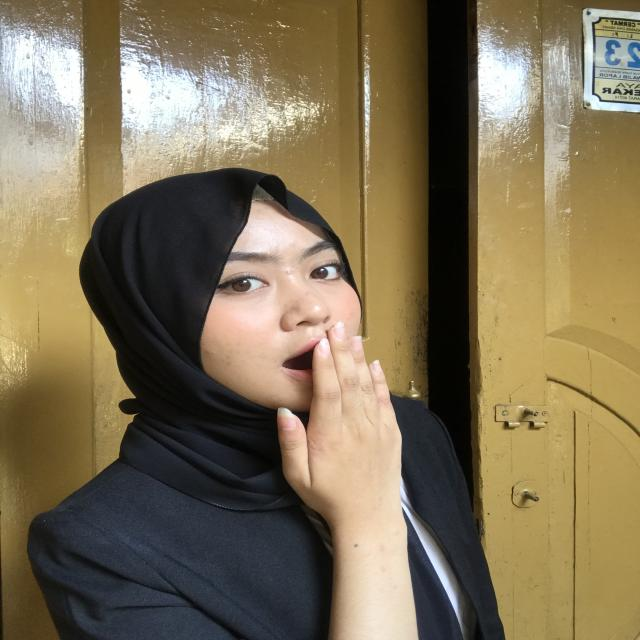ngantuk: (254, 315, 441, 568)
